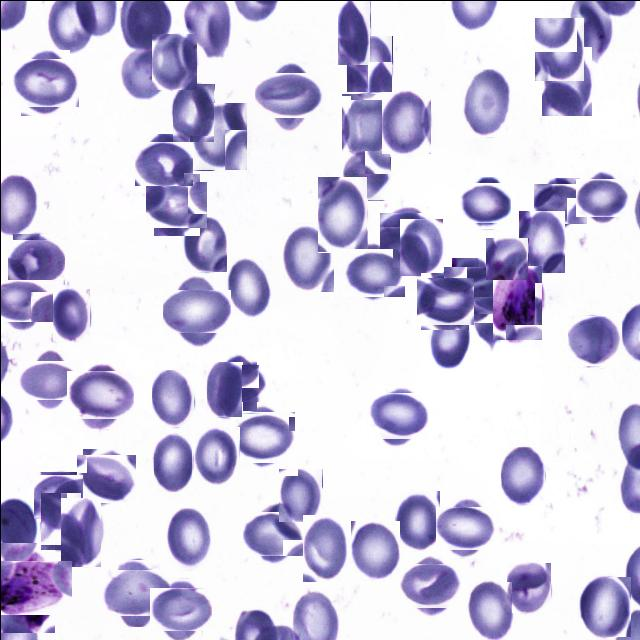red blood cell: (317, 176, 367, 252), (192, 102, 247, 170), (280, 221, 333, 291), (260, 65, 319, 124), (460, 68, 511, 136), (541, 46, 591, 115), (234, 408, 292, 466), (70, 366, 128, 424), (381, 89, 431, 154), (107, 564, 164, 621), (16, 54, 74, 110), (341, 93, 391, 157), (534, 17, 584, 81), (447, 262, 503, 318), (168, 283, 224, 339), (344, 244, 400, 300), (578, 576, 630, 636), (302, 514, 348, 581), (164, 507, 212, 570), (369, 388, 424, 442), (402, 558, 456, 612), (149, 177, 203, 231), (79, 451, 133, 505), (518, 210, 564, 272), (350, 520, 399, 578), (246, 506, 299, 559), (154, 582, 206, 636), (60, 497, 100, 566), (568, 313, 620, 366), (137, 136, 189, 188), (418, 274, 470, 326), (395, 490, 439, 551), (193, 426, 239, 484), (438, 502, 490, 553), (23, 353, 74, 405), (9, 236, 61, 287), (346, 35, 392, 92), (500, 446, 545, 504), (225, 257, 269, 316), (0, 274, 48, 327), (151, 33, 196, 89), (151, 369, 194, 427), (468, 581, 511, 639), (172, 83, 214, 142), (399, 218, 442, 275), (182, 216, 226, 271), (382, 209, 431, 258), (342, 150, 390, 200), (40, 492, 81, 550), (278, 468, 322, 522), (120, 46, 164, 100), (429, 310, 469, 369), (152, 433, 192, 492), (534, 180, 582, 228), (34, 472, 82, 520), (506, 562, 551, 613), (214, 358, 260, 406), (337, 0, 370, 65), (579, 174, 625, 220), (462, 179, 508, 225), (206, 361, 242, 417), (52, 288, 90, 341), (485, 237, 528, 280)
trophozoite: (0, 552, 63, 623), (492, 265, 542, 340)
